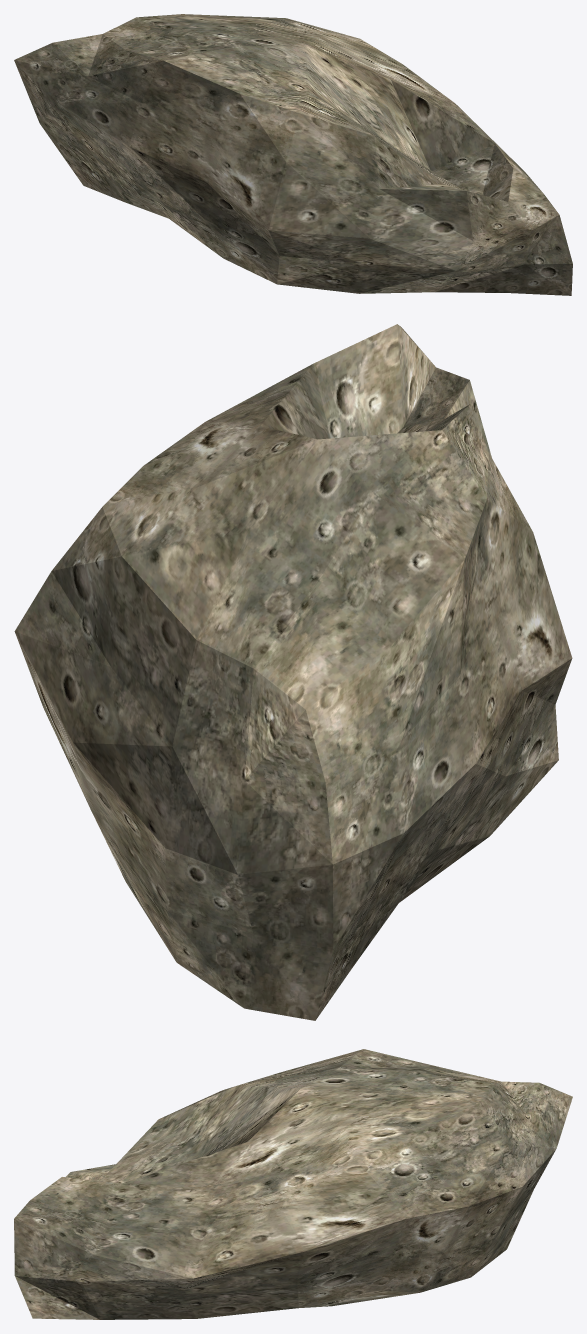
The model's file is asteroid_all_medium_02_l0.fbx.
3 renders of one model, top to bottom at view 1: azimuth 30°, elevation 25°; view 2: azimuth 150°, elevation 25°; view 3: azimuth 270°, elevation 25°, orthographic. The views are drawn at different scales.
Visible parts, largest first — view 1: mesh_node; view 2: mesh_node; view 3: mesh_node.
Part boxes in pixels (<box>): mesh_node: <box>14,14,572,295</box>; mesh_node: <box>14,324,572,1020</box>; mesh_node: <box>14,1049,572,1319</box>.
Size of the model in its own units: 53.35 by 36.97 by 89.18.
